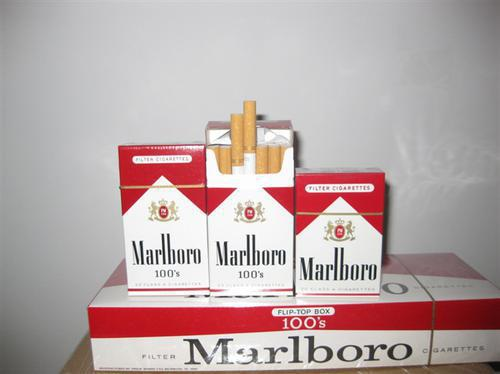marlboro: (123, 146, 209, 296), (211, 163, 294, 297), (298, 176, 379, 296)
